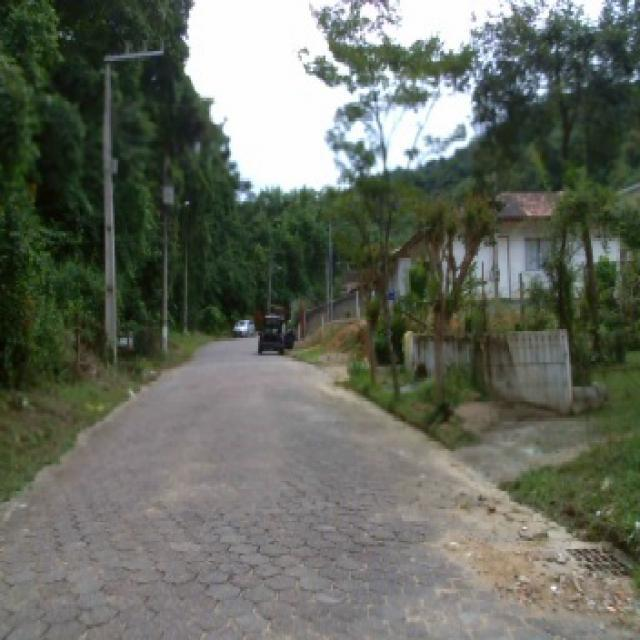Poth-hole: (560, 542, 636, 578), (456, 488, 496, 514), (514, 524, 550, 540), (536, 554, 569, 564)
